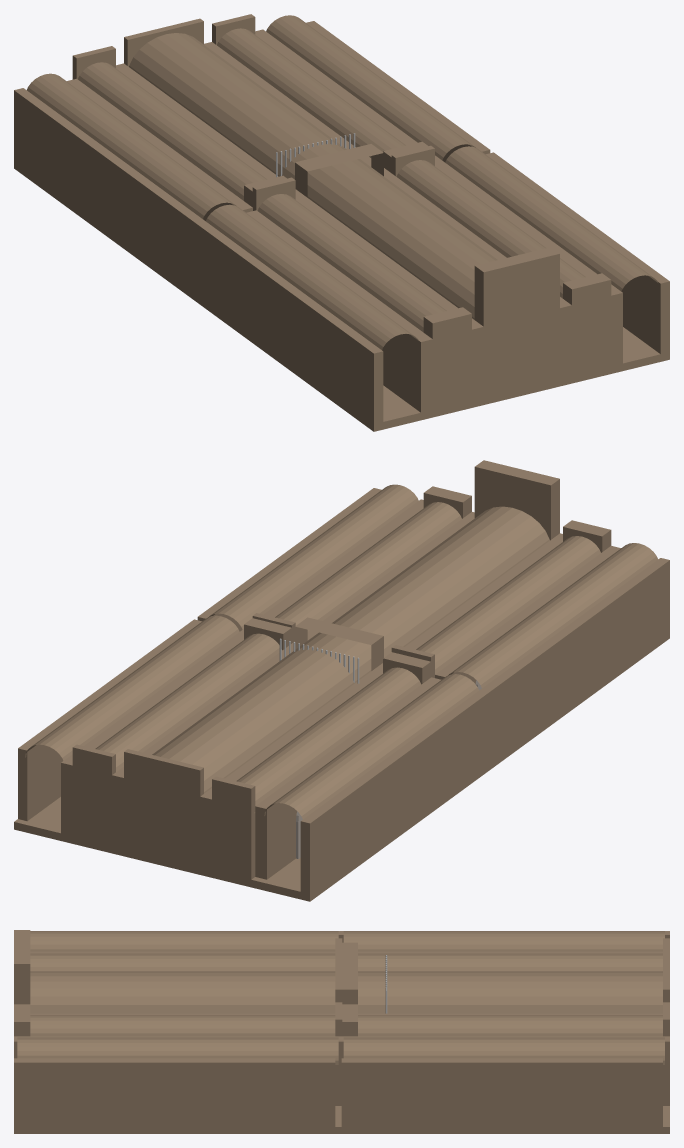
Rendered from startarea.glb.
3 views of the same model, one above another, from view 1: azimuth 30°, elevation 25°; view 2: azimuth 150°, elevation 25°; view 3: azimuth 270°, elevation 25° (orthographic). The views are drawn at different scales.
Parts seen in each view (by area): view 1: Cube.051; view 2: Cube.051; view 3: Cube.051.
Boxes of the visible parts, x1=… form: Cube.051: x1=14, y1=14, x2=669, y2=431; Cube.051: x1=14, y1=460, x2=669, y2=901; Cube.051: x1=14, y1=930, x2=669, y2=1133.
Size of the model in its own units: 61.75 by 26.46 by 130.
